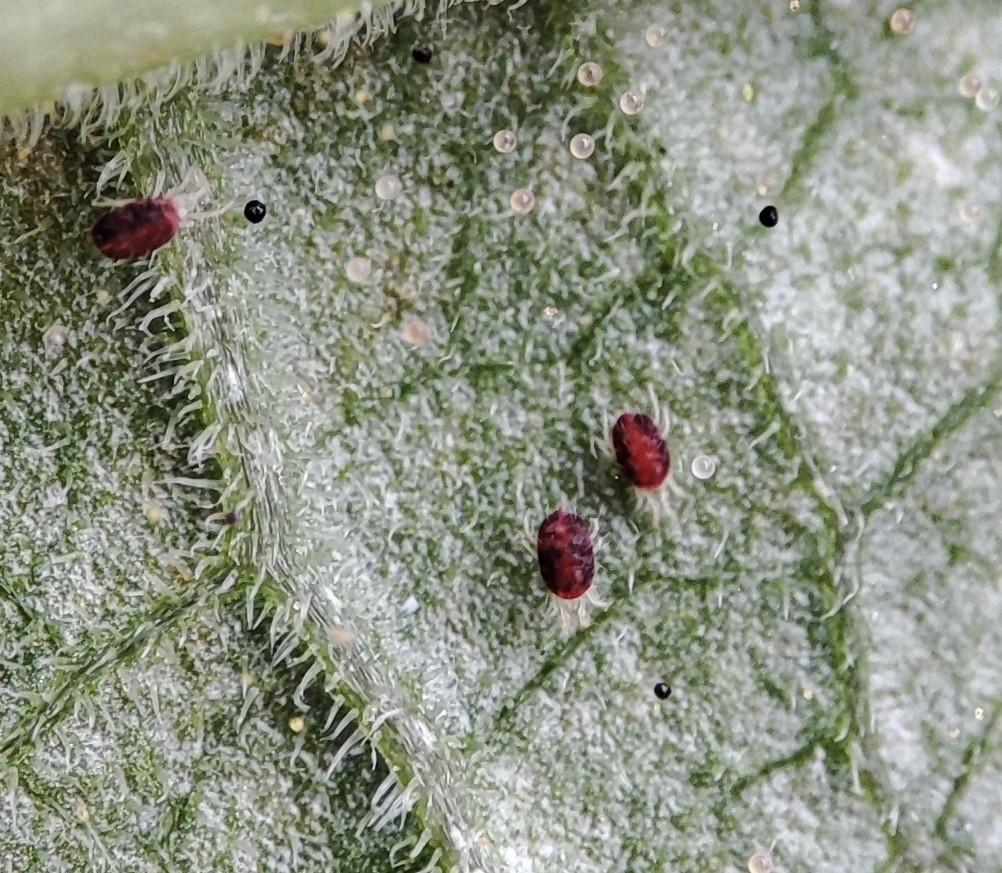tiny_pests: (41, 146, 263, 311), (570, 364, 725, 529), (485, 480, 636, 641)
